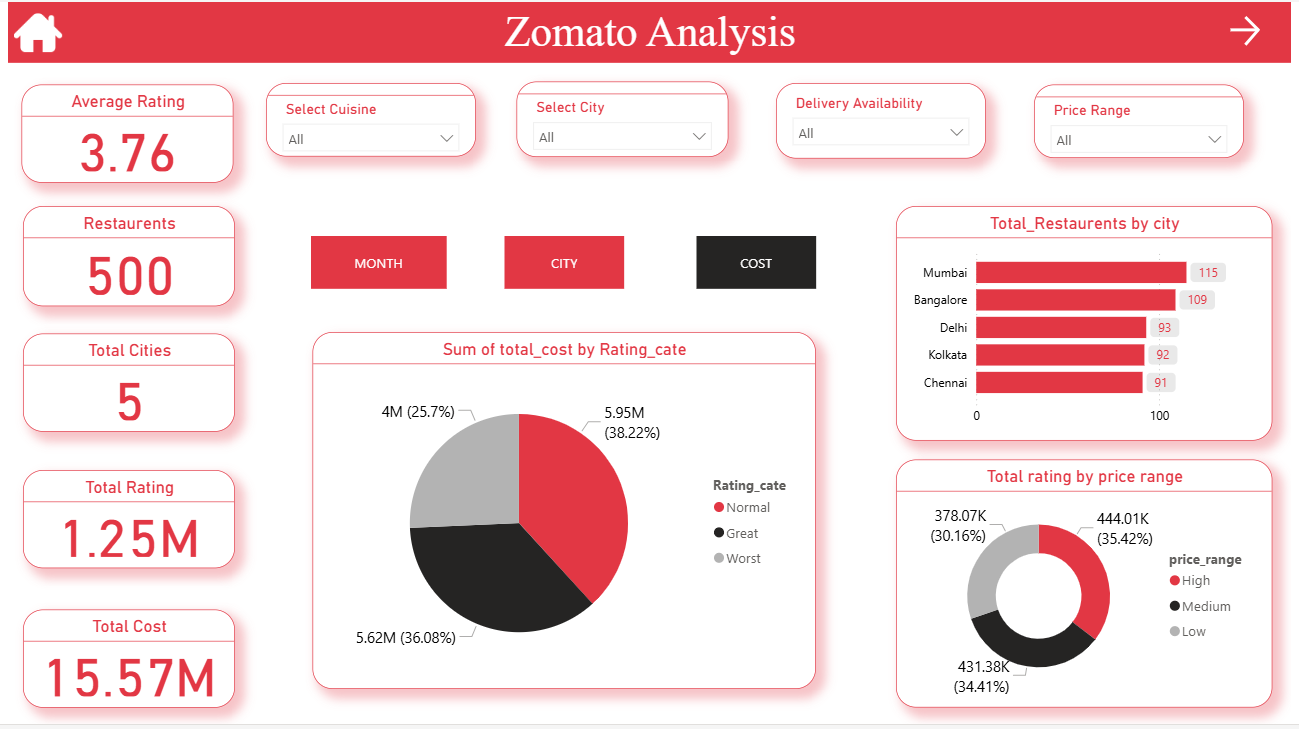

The page's visual inventory and layout, read from the dashboard file:
{"tool":"powerbi","page":{"name":"DB 01","canvas":[1280,720],"ordinal":1},"visuals":[{"type":"card","title":"Average Rating","fields":{"Values":["Zomato_Restaurants -updated csv.Total_avg_rat"]},"box":[13.2,83,211.3,98.1],"z":0},{"type":"card","title":"Total Cities","fields":{"Values":["Zomato_Restaurants -updated csv.Total city"]},"box":[15.1,330.2,211.3,98.1],"z":1000},{"type":"card","title":"Restaurents","fields":{"Values":["Zomato_Restaurants -updated csv.Total_Restaurents"]},"box":[15.1,203.8,211.3,100],"z":2000},{"type":"card","title":"Total Cost","fields":{"Values":["Sum(Zomato_Orders -updated csv.total_cost)"]},"box":[15.1,605.7,211.3,98.1],"z":3000},{"type":"card","title":"Total Rating","fields":{"Values":["Zomato_Restaurants -updated csv.Total-sum_rat"]},"box":[15.1,466,211.3,98.1],"z":4000},{"type":"slicer","fields":{"Values":["Zomato_Restaurants -updated csv.price_range"]},"box":[256.6,81.1,209.4,73.6],"z":5000},{"type":"textbox","box":[0,0,1280.4,60.4],"z":6000},{"type":"slicer","fields":{"Values":["Zomato_Restaurants -updated csv.city"]},"box":[507.5,79.2,211.3,75.5],"z":7000},{"type":"slicer","fields":{"Values":["Zomato_Restaurants -updated csv.delivery_available"]},"box":[766,81.1,209.4,75.5],"z":8000},{"type":"slicer","fields":{"Values":["Zomato_Restaurants -updated csv.price_range"]},"box":[1022.6,83,209.4,73.6],"z":9000},{"type":"actionButton","title":"month b1","box":[301.8,233.3,135.1,52.6],"z":10000},{"type":"actionButton","title":"city b1","box":[494.7,233.3,119.3,52.6],"z":11000},{"type":"actionButton","title":"cost b2","box":[686,233.3,119.3,52.6],"z":14000},{"type":"donutChart","title":"Total rating by price range","fields":{"Category":["Zomato_Restaurants -updated csv.price_range"],"Y":["Zomato_Restaurants -updated csv.Total-sum_rat"]},"box":[884.9,456.6,375.5,247.2],"z":16000},{"type":"barChart","fields":{"Category":["Zomato_Restaurants -updated csv.city"],"Y":["Zomato_Restaurants -updated csv.Total_Restaurents"]},"box":[884.9,203.8,375.5,234],"z":17000},{"type":"actionButton","title":"Next page","box":[1213.2,9.4,47.2,39.6],"z":18000},{"type":"pieChart","fields":{"Category":["Zomato_Orders -updated csv.Rating_cate"],"Y":["Sum(Zomato_Orders -updated csv.total_cost)"]},"box":[303.5,329.8,501.8,356.1],"z":21000},{"type":"image","box":[0,5.3,59.6,49.1],"z":21001}]}

Visuals, with their boxes in screenshot pixels (x1, y1, x2, y2), scaled from the page's 1280x720 canvas onto the 1299x729 screenshot:
"Average Rating" card: region(13, 84, 228, 183)
"Total Cities" card: region(15, 334, 230, 434)
"Restaurents" card: region(15, 206, 230, 308)
"Total Cost" card: region(15, 613, 230, 713)
"Total Rating" card: region(15, 472, 230, 571)
slicer - Zomato_Restaurants -updated csv.price_range: region(260, 82, 473, 157)
textbox: region(0, 0, 1298, 61)
slicer - Zomato_Restaurants -updated csv.city: region(515, 80, 729, 157)
slicer - Zomato_Restaurants -updated csv.delivery_available: region(777, 82, 990, 159)
slicer - Zomato_Restaurants -updated csv.price_range: region(1038, 84, 1250, 159)
"month b1" actionButton: region(306, 236, 443, 289)
"city b1" actionButton: region(502, 236, 623, 289)
"cost b2" actionButton: region(696, 236, 817, 289)
"Total rating by price range" donutChart: region(898, 462, 1279, 713)
barChart - Zomato_Restaurants -updated csv.city x Zomato_Restaurants -updated csv.Total_Restaurents: region(898, 206, 1279, 443)
"Next page" actionButton: region(1231, 10, 1279, 50)
pieChart - Zomato_Orders -updated csv.Rating_cate x Sum(Zomato_Orders -updated csv.total_cost): region(308, 334, 817, 694)
image: region(0, 5, 60, 55)
